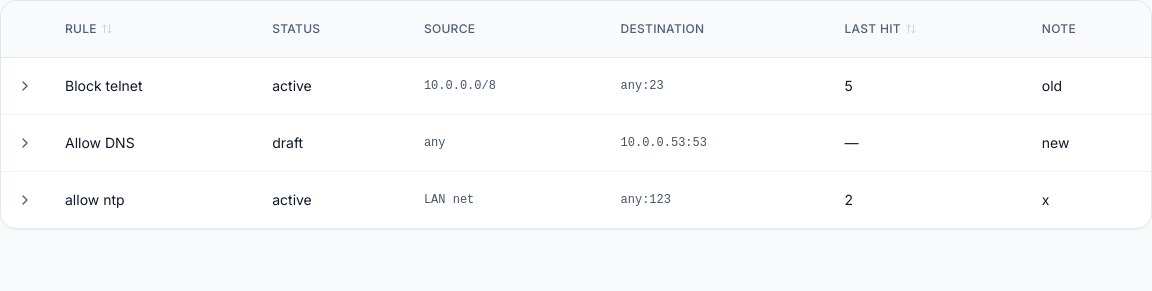
Test case: DataTable row detail › desktop: a toggle per row opens the detail below it, rendered only while open
The image size is (1152, 291).
expect the text "Steps of Block telnet" is not shown: met
What coordinates should you click on to do the following:
click the button named "common.showDetails" next to "Block telnet"
I would click on:
 (25, 86)
Its box is [9,70,41,102].
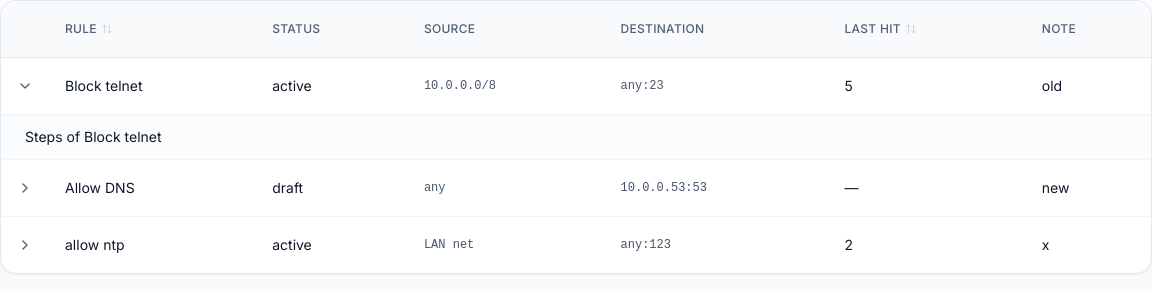
expect the text "Steps of Block telnet" is shown: met, box [25,128,162,145]
What coordinates should you click on to do the following:
click the button named "common.hideDetails"
I would click on:
 (25, 86)
Its box is [9,70,41,102].
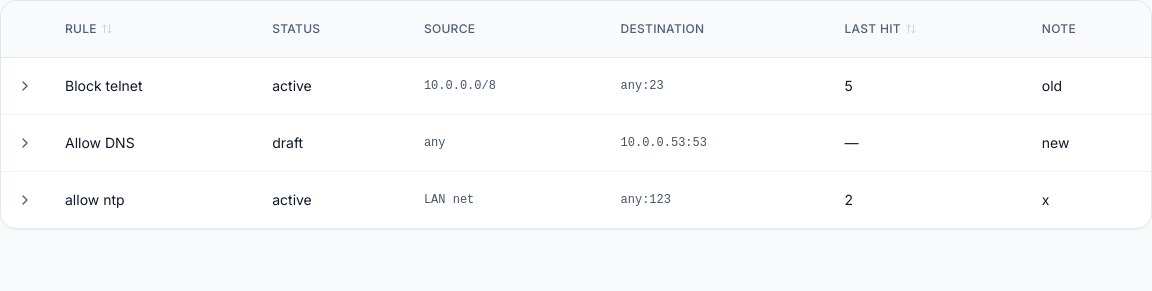
expect the text "Steps of Block telnet" is gone: met
